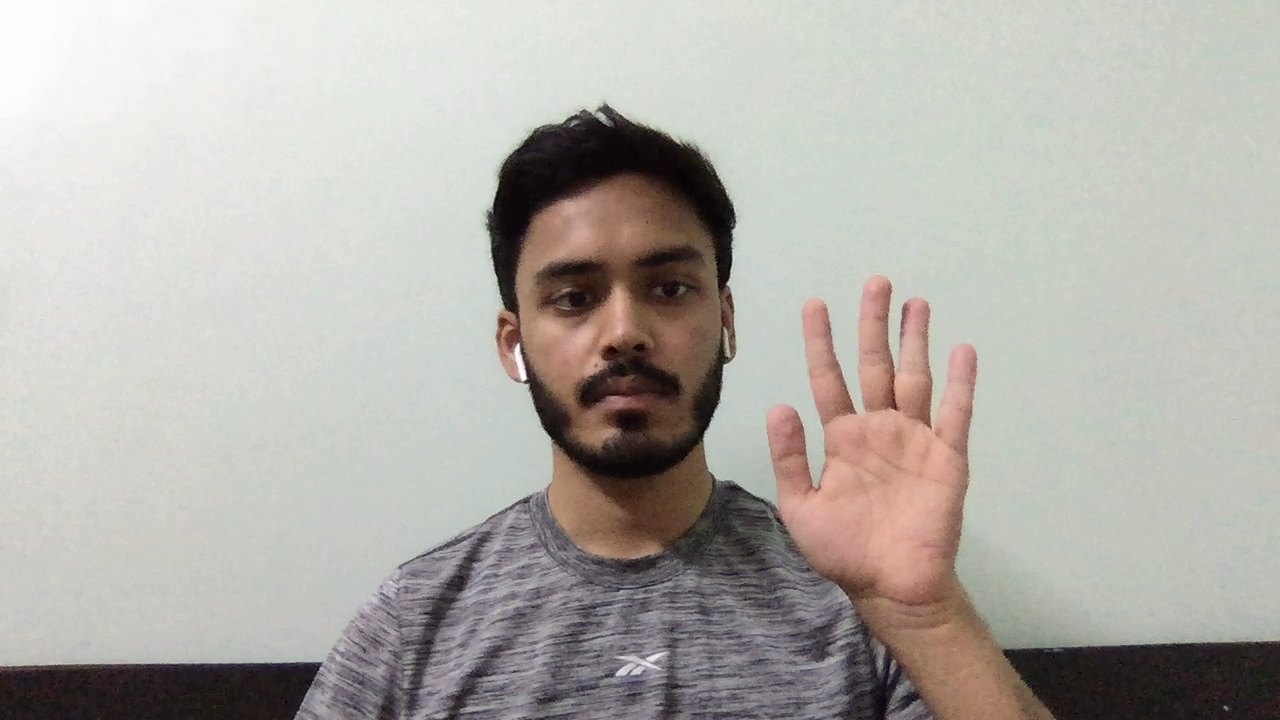Hello: (762, 259, 987, 614)
